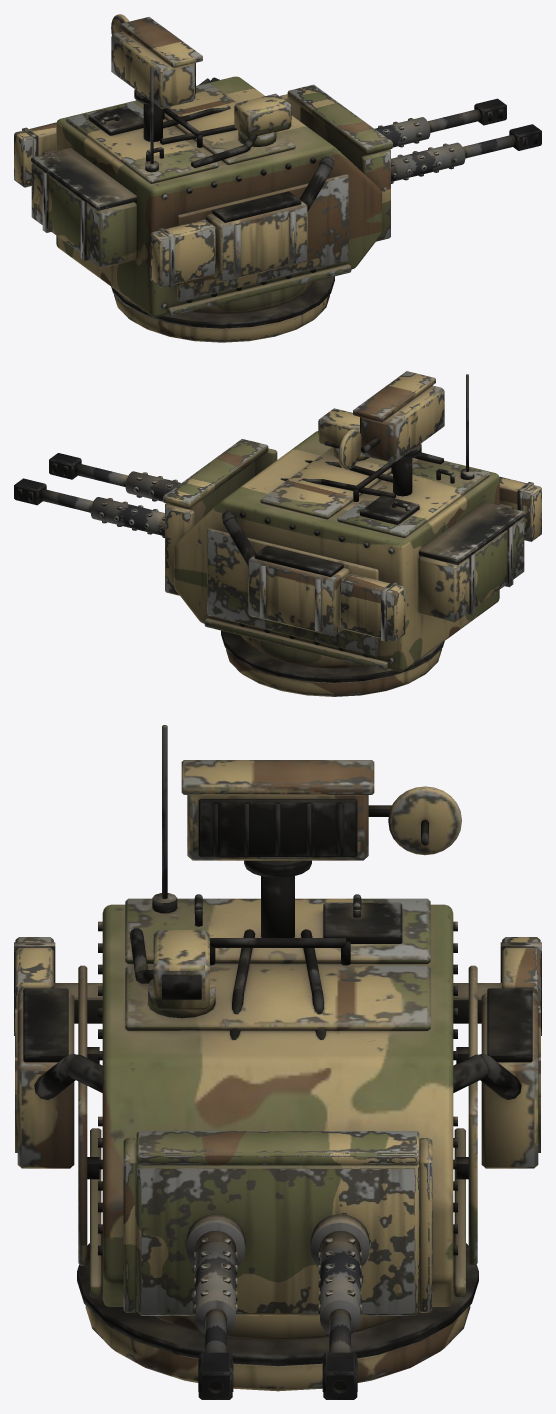
The model's file is turret_grach_evo_reed.glb.
3 renders of one model, top to bottom at view 1: azimuth 30°, elevation 25°; view 2: azimuth 150°, elevation 25°; view 3: azimuth 270°, elevation 25°, orthographic. The views are drawn at different scales.
Visible parts, largest first — view 1: turret_light_evo, guns, pods; view 2: turret_light_evo, guns, pods; view 3: turret_light_evo, guns, pods.
Part boxes in pixels (<box>): turret_light_evo: <box>31,14,381,342</box>; guns: <box>280,84,541,241</box>; pods: <box>14,122,215,287</box>; turret_light_evo: <box>174,371,524,696</box>; guns: <box>14,439,277,595</box>; pods: <box>340,476,541,641</box>; turret_light_evo: <box>15,725,540,1391</box>; guns: <box>123,1131,432,1399</box>; pods: <box>14,937,541,1035</box>.
Bounding box in the file's own units: 1.86 × 1.09 × 1.05.
Materials: 3 (3 with a texture image).
